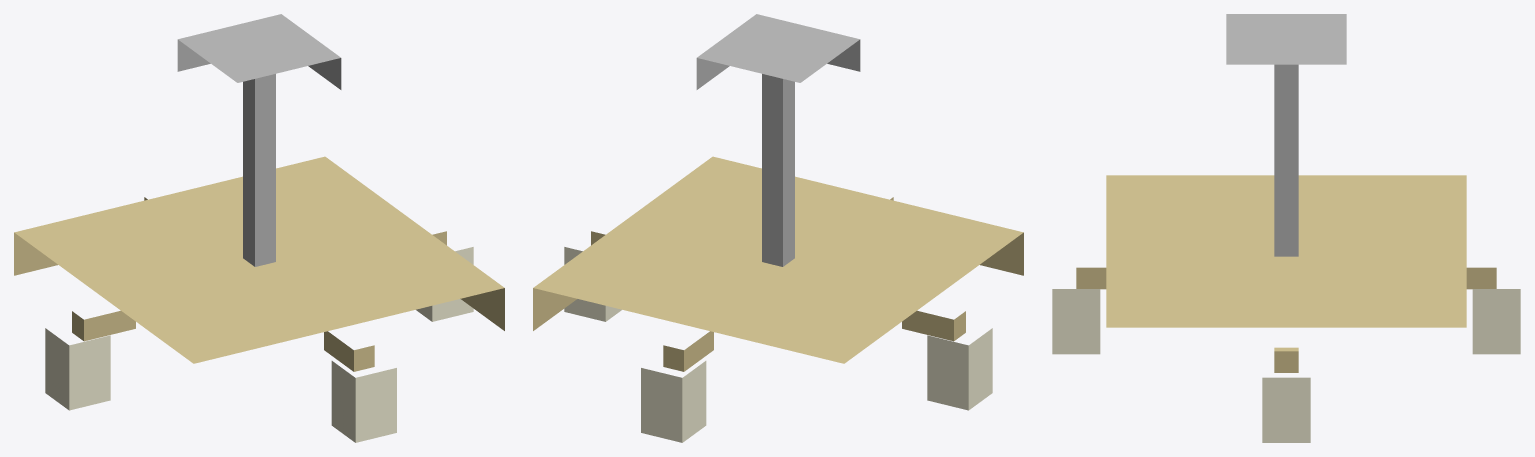
The model's file is chandelier.glb.
3 renders of one model, left to right at view 1: azimuth 30°, elevation 25°; view 2: azimuth 150°, elevation 25°; view 3: azimuth 270°, elevation 25°, orthographic.
Bounding box in the file's own units: 0.78 × 0.56 × 0.78.
